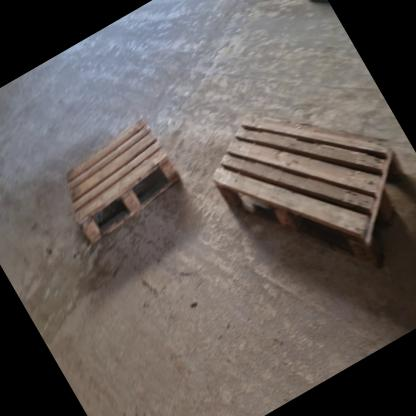BoxFace: (210, 110, 408, 274), (64, 115, 182, 247)
